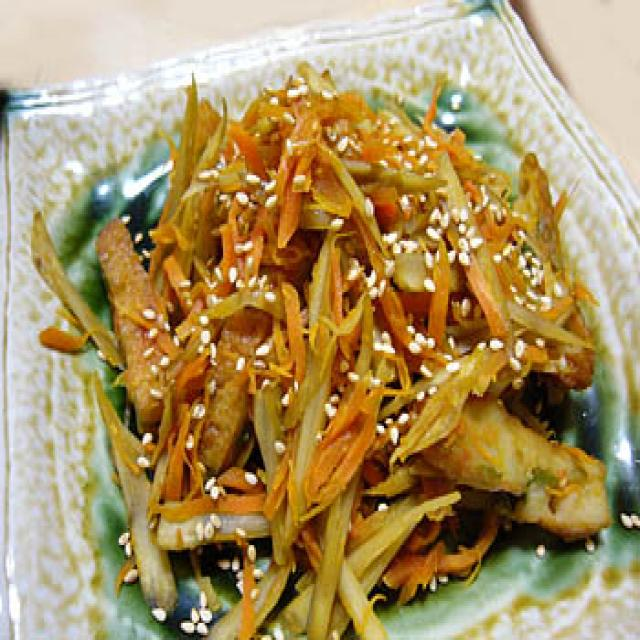蔬菜料理: (31, 86, 614, 592)
